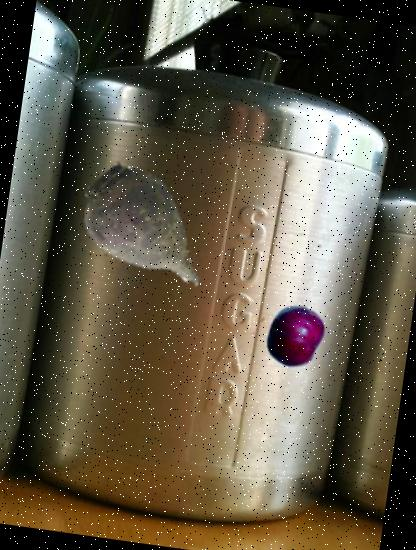Beetroot: (61, 148, 229, 316)
Plum: (260, 301, 332, 372)
